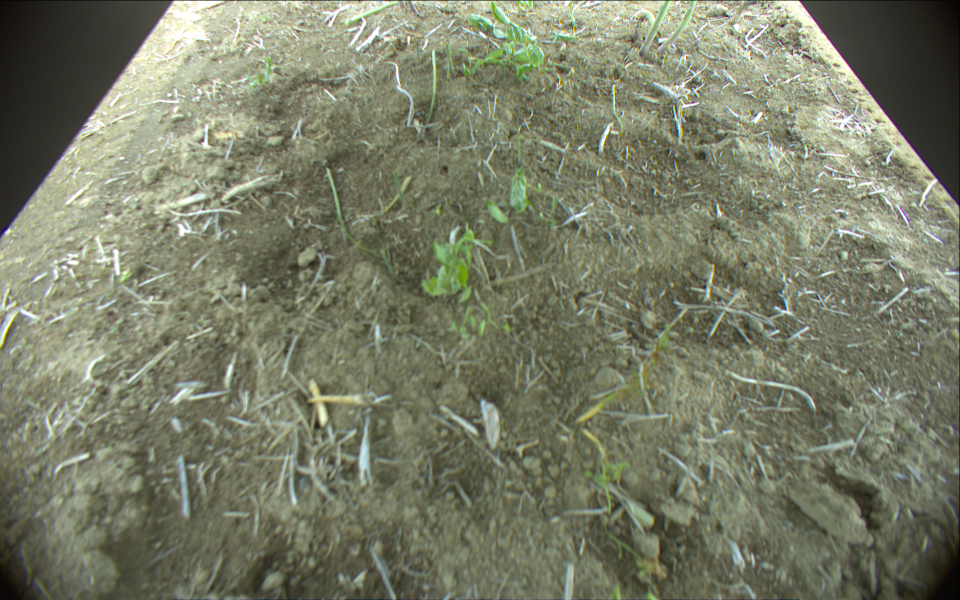aspa: (657, 1, 699, 51), (418, 49, 441, 134), (325, 166, 349, 247), (637, 1, 671, 55), (346, 1, 408, 26)
